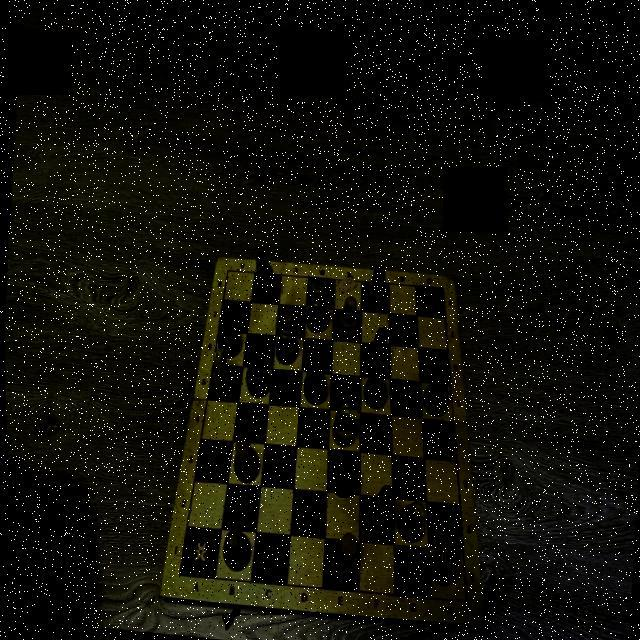chess-table-corners: (459, 591, 470, 607), (172, 565, 183, 581), (438, 278, 447, 290), (223, 264, 230, 272)
